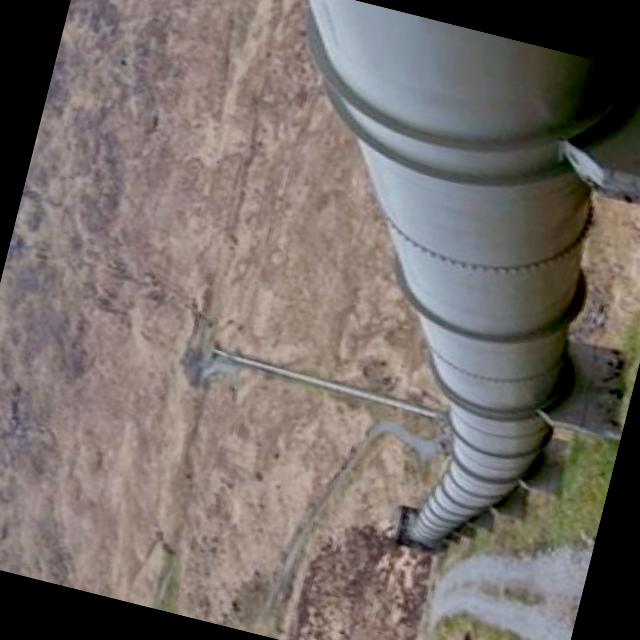gas: (312, 0, 580, 546)
